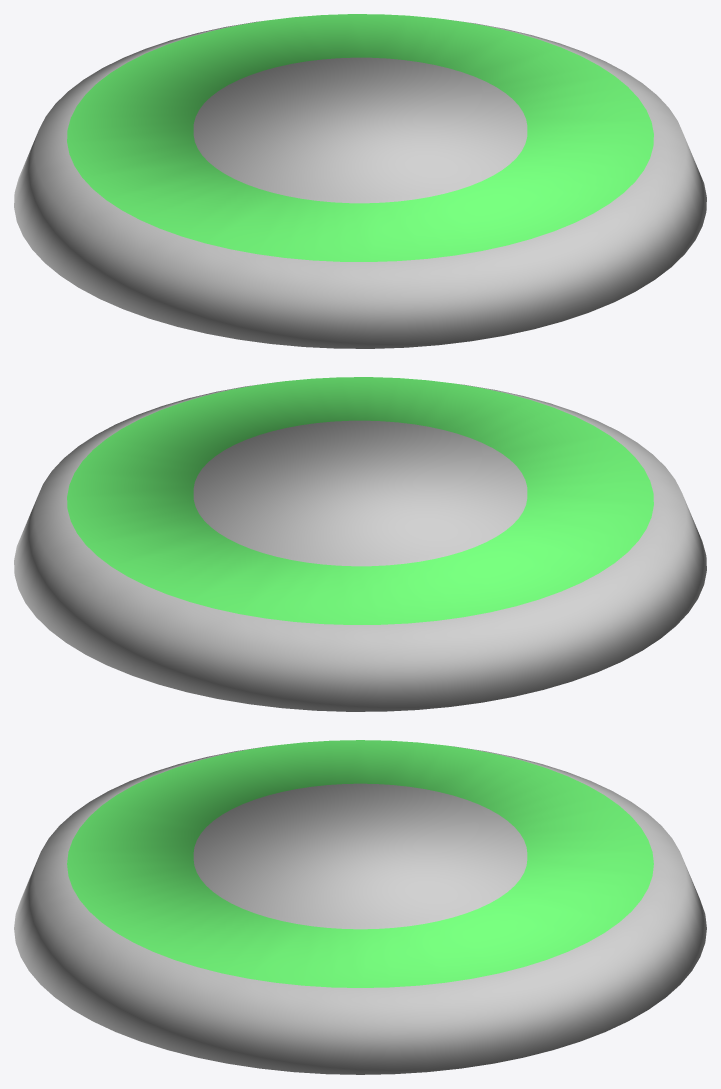
Rendered from GBZH35_Helipad_Light_Green.gltf.
3 views of the same model, one above another, from view 1: azimuth 30°, elevation 25°; view 2: azimuth 150°, elevation 25°; view 3: azimuth 270°, elevation 25° (orthographic).
Visible parts, largest first — view 1: Light_Green; view 2: Light_Green; view 3: Light_Green.
Boxes of the visible parts, x1,y1,x2,y2 form: Light_Green: (14, 14, 706, 348); Light_Green: (14, 377, 706, 711); Light_Green: (14, 740, 706, 1074).
Bounding box in the file's own units: 0.4 × 0.0473 × 0.4.
